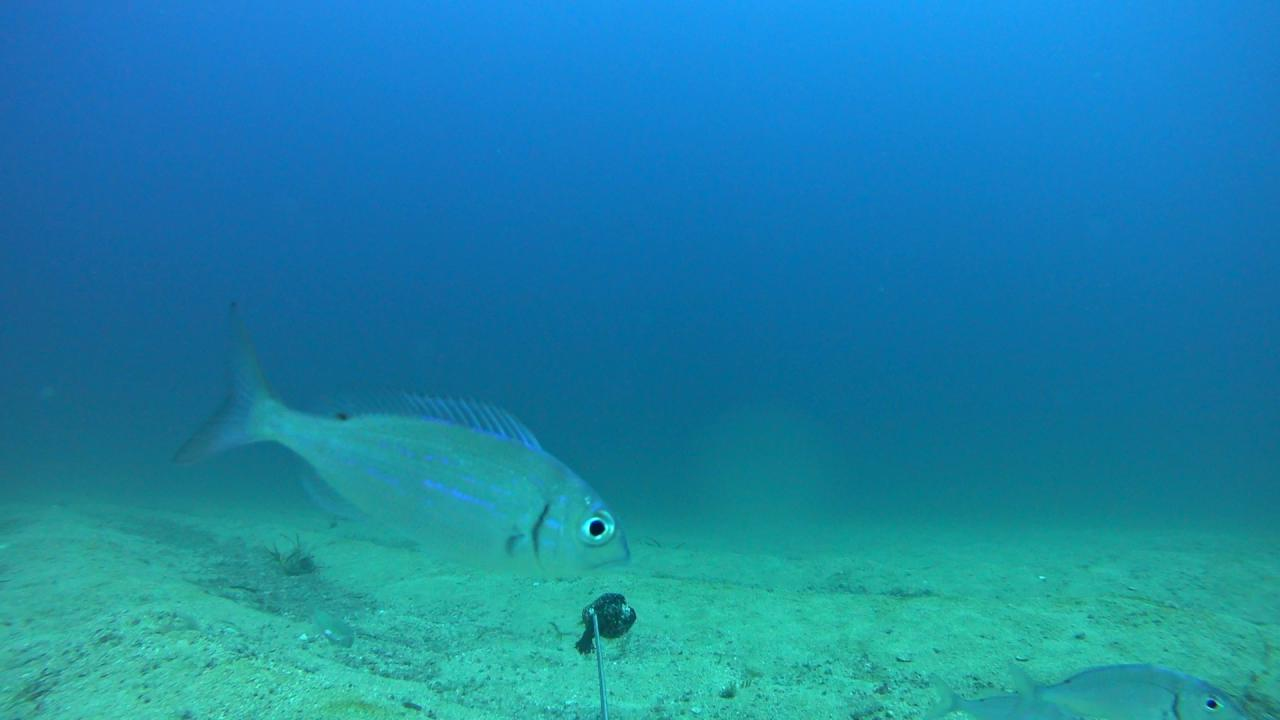pagellus: (171, 299, 631, 580)
